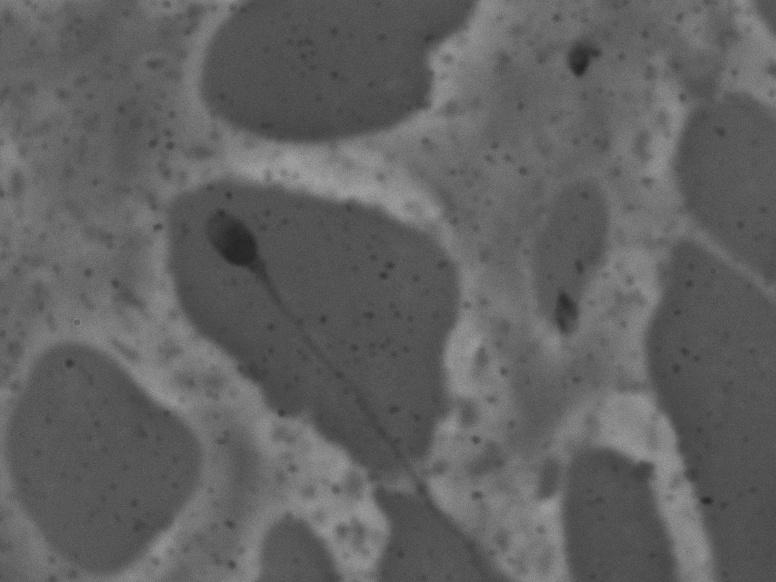Normal: (193, 200, 495, 548)
